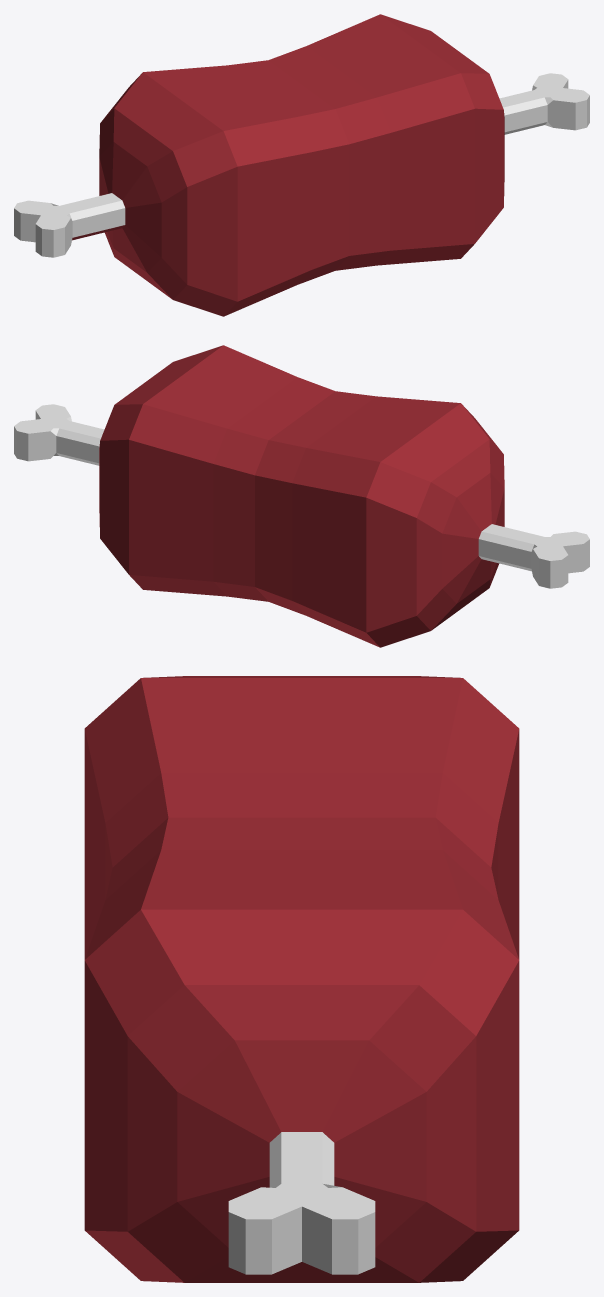
The model's file is CarneCor.fbx.
3 views of the same model, one above another, from view 1: azimuth 30°, elevation 25°; view 2: azimuth 150°, elevation 25°; view 3: azimuth 270°, elevation 25° (orthographic). The views are drawn at different scales.
Parts seen in each view (by area): view 1: Cube; view 2: Cube; view 3: Cube.
Boxes of the visible parts, left/top/right/bottom form: Cube: left=14, top=14, right=589, bottom=316; Cube: left=14, top=345, right=589, bottom=647; Cube: left=84, top=676, right=519, bottom=1282.
Bounding box in the file's own units: 4148 × 1344 × 1425.
